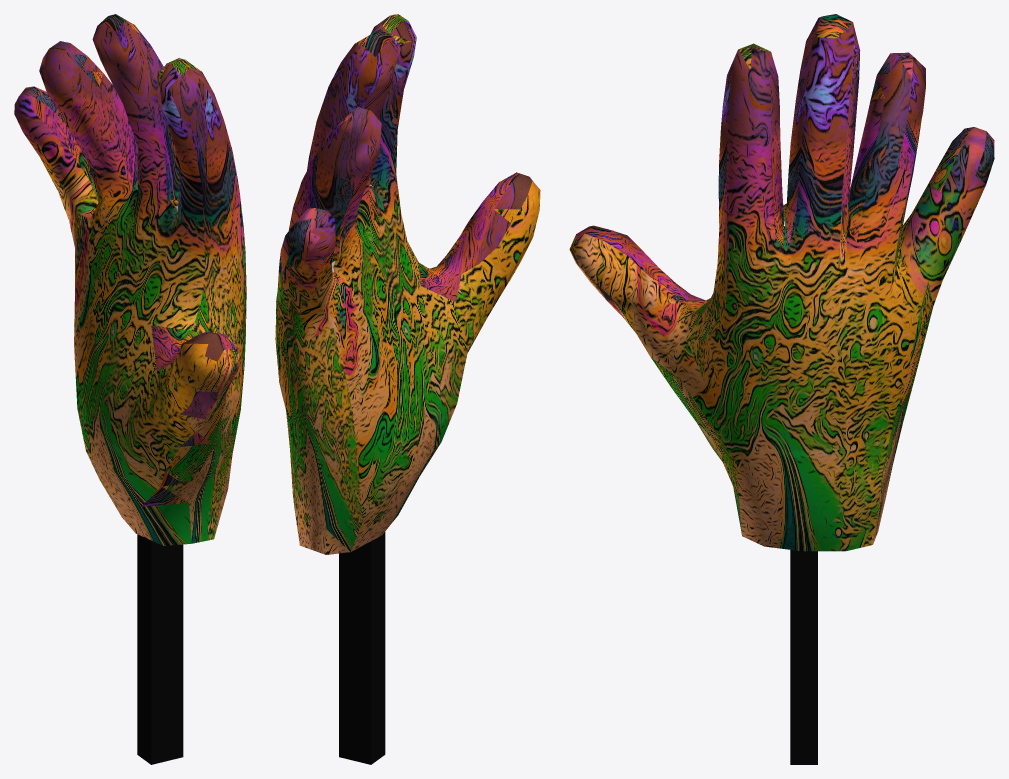
The model's file is Slap_3.fbx.
3 renders of one model, left to right at view 1: azimuth 30°, elevation 25°; view 2: azimuth 150°, elevation 25°; view 3: azimuth 270°, elevation 25°, orthographic.
Parts seen in each view (by area): view 1: Handle4, Handle2, Stick1, Handle5, Handle3, Handle7; view 2: Handle4, Handle6, Stick1, Handle5, Handle3; view 3: Handle3, Handle2, Handle6, Stick1, Handle5.
Boxes of the visible parts, left/top/right/bottom form: Handle4: left=14, top=24, right=217, bottom=545; Handle2: left=30, top=21, right=244, bottom=543; Stick1: left=137, top=534, right=183, bottom=764; Handle5: left=19, top=14, right=237, bottom=370; Handle3: left=135, top=25, right=246, bottom=537; Handle7: left=142, top=378, right=233, bottom=506; Handle4: left=299, top=21, right=540, bottom=554; Handle6: left=276, top=25, right=519, bottom=554; Stick1: left=339, top=532, right=385, bottom=764; Handle5: left=296, top=14, right=533, bottom=301; Handle3: left=275, top=16, right=445, bottom=515; Handle3: left=572, top=22, right=985, bottom=551; Handle2: left=569, top=16, right=936, bottom=534; Handle6: left=767, top=24, right=994, bottom=543; Stick1: left=790, top=550, right=817, bottom=764; Handle5: left=576, top=14, right=986, bottom=321.
Size of the model in its own units: 95.59 by 472 by 249.
3 materials, 1 textured.
